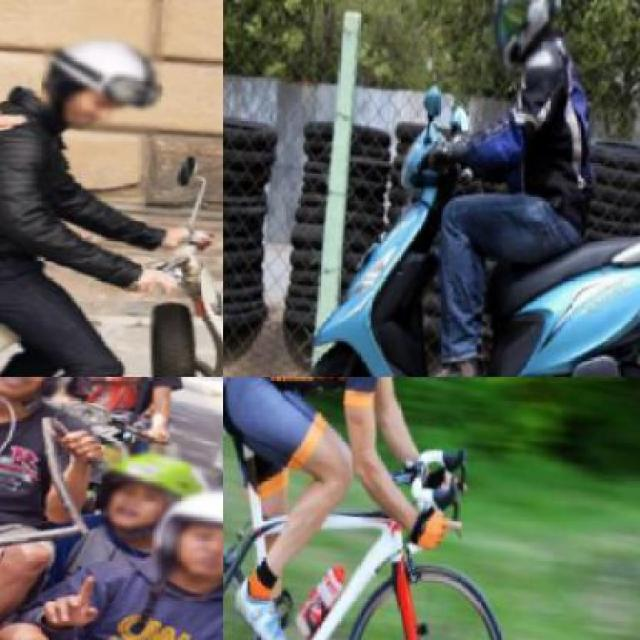With Helmet: (36, 22, 170, 142), (94, 440, 218, 554), (144, 480, 222, 595), (476, 0, 570, 89), (0, 377, 83, 415)
